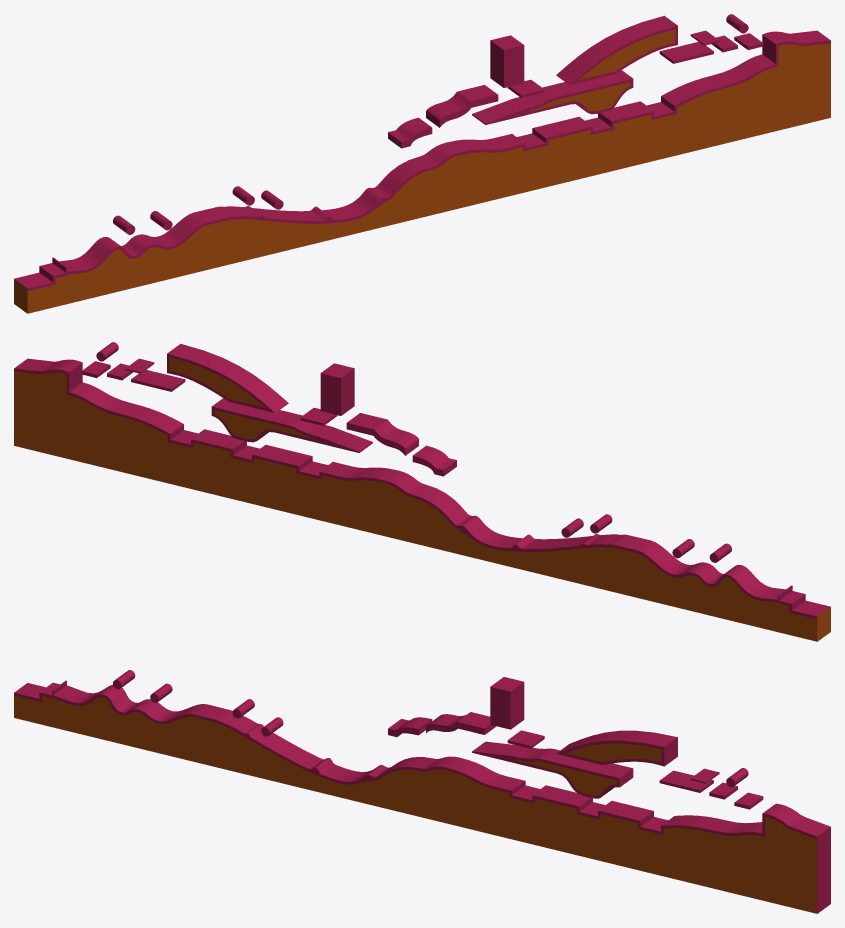
Rendered from GardenMeshB.fbx.
3 renders of one model, top to bottom at view 1: azimuth 30°, elevation 25°; view 2: azimuth 150°, elevation 25°; view 3: azimuth 330°, elevation 25°, orthographic.
Parts seen in each view (by area): view 1: GardenMeshB, GardenPlatform15, GardenPlatform16, GardenPlatform18, GardenPlatform19, GardenPlatform20, GardenPlatform14; view 2: GardenMeshB, GardenPlatform15, GardenPlatform16, GardenPlatform18, GardenPlatform19, GardenPlatform20, GardenPlatform14; view 3: GardenMeshB, GardenPlatform16, GardenPlatform15, GardenPlatform18, GardenPlatform19, GardenPlatform14, GardenPlatform20.
Boxes of the visible parts, x1,y1,x2,y2 form: GardenMeshB: (14,30,830,313); GardenPlatform15: (556,15,677,84); GardenPlatform16: (472,70,633,124); GardenPlatform18: (490,35,524,87); GardenPlatform19: (426,85,498,127); GardenPlatform20: (388,117,432,148); GardenPlatform14: (659,42,713,63); GardenMeshB: (14,358,830,641); GardenPlatform15: (167,343,288,412); GardenPlatform16: (211,398,372,452); GardenPlatform18: (320,363,354,415); GardenPlatform19: (346,413,418,455); GardenPlatform20: (412,445,456,476); GardenPlatform14: (131,370,185,391); GardenMeshB: (14,680,830,913); GardenPlatform16: (472,741,633,798); GardenPlatform15: (556,730,677,766); GardenPlatform18: (490,677,524,729); GardenPlatform19: (426,712,496,734); GardenPlatform14: (659,770,713,792); GardenPlatform20: (388,717,432,737).
Bounding box in the file's own units: 34.18 × 5.99 × 1.
